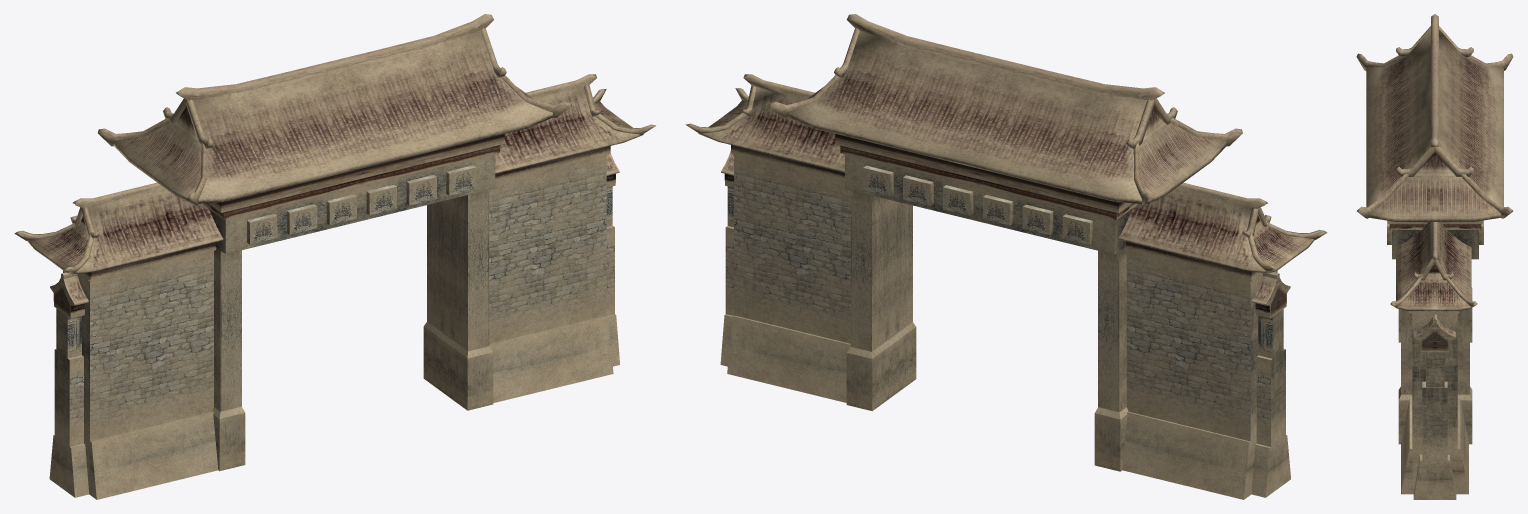
Rendered from desert-middledam-01.fbx.
3 renders of one model, left to right at view 1: azimuth 30°, elevation 25°; view 2: azimuth 150°, elevation 25°; view 3: azimuth 270°, elevation 25°, orthographic. The views are drawn at different scales.
Parts seen in each view (by area): view 1: desert-middledam-02, desert-middledam-01; view 2: desert-middledam-02, desert-middledam-01; view 3: desert-middledam-01, desert-middledam-02.
Boxes of the visible parts, x1,y1,x2,y2 form: desert-middledam-02: (14,74,655,499); desert-middledam-01: (98,14,571,471); desert-middledam-02: (686,74,1327,499); desert-middledam-01: (768,14,1242,471); desert-middledam-01: (1356,14,1513,444); desert-middledam-02: (1390,222,1477,499).
Size of the model in its own units: 22.82 by 13.67 by 6.24.
